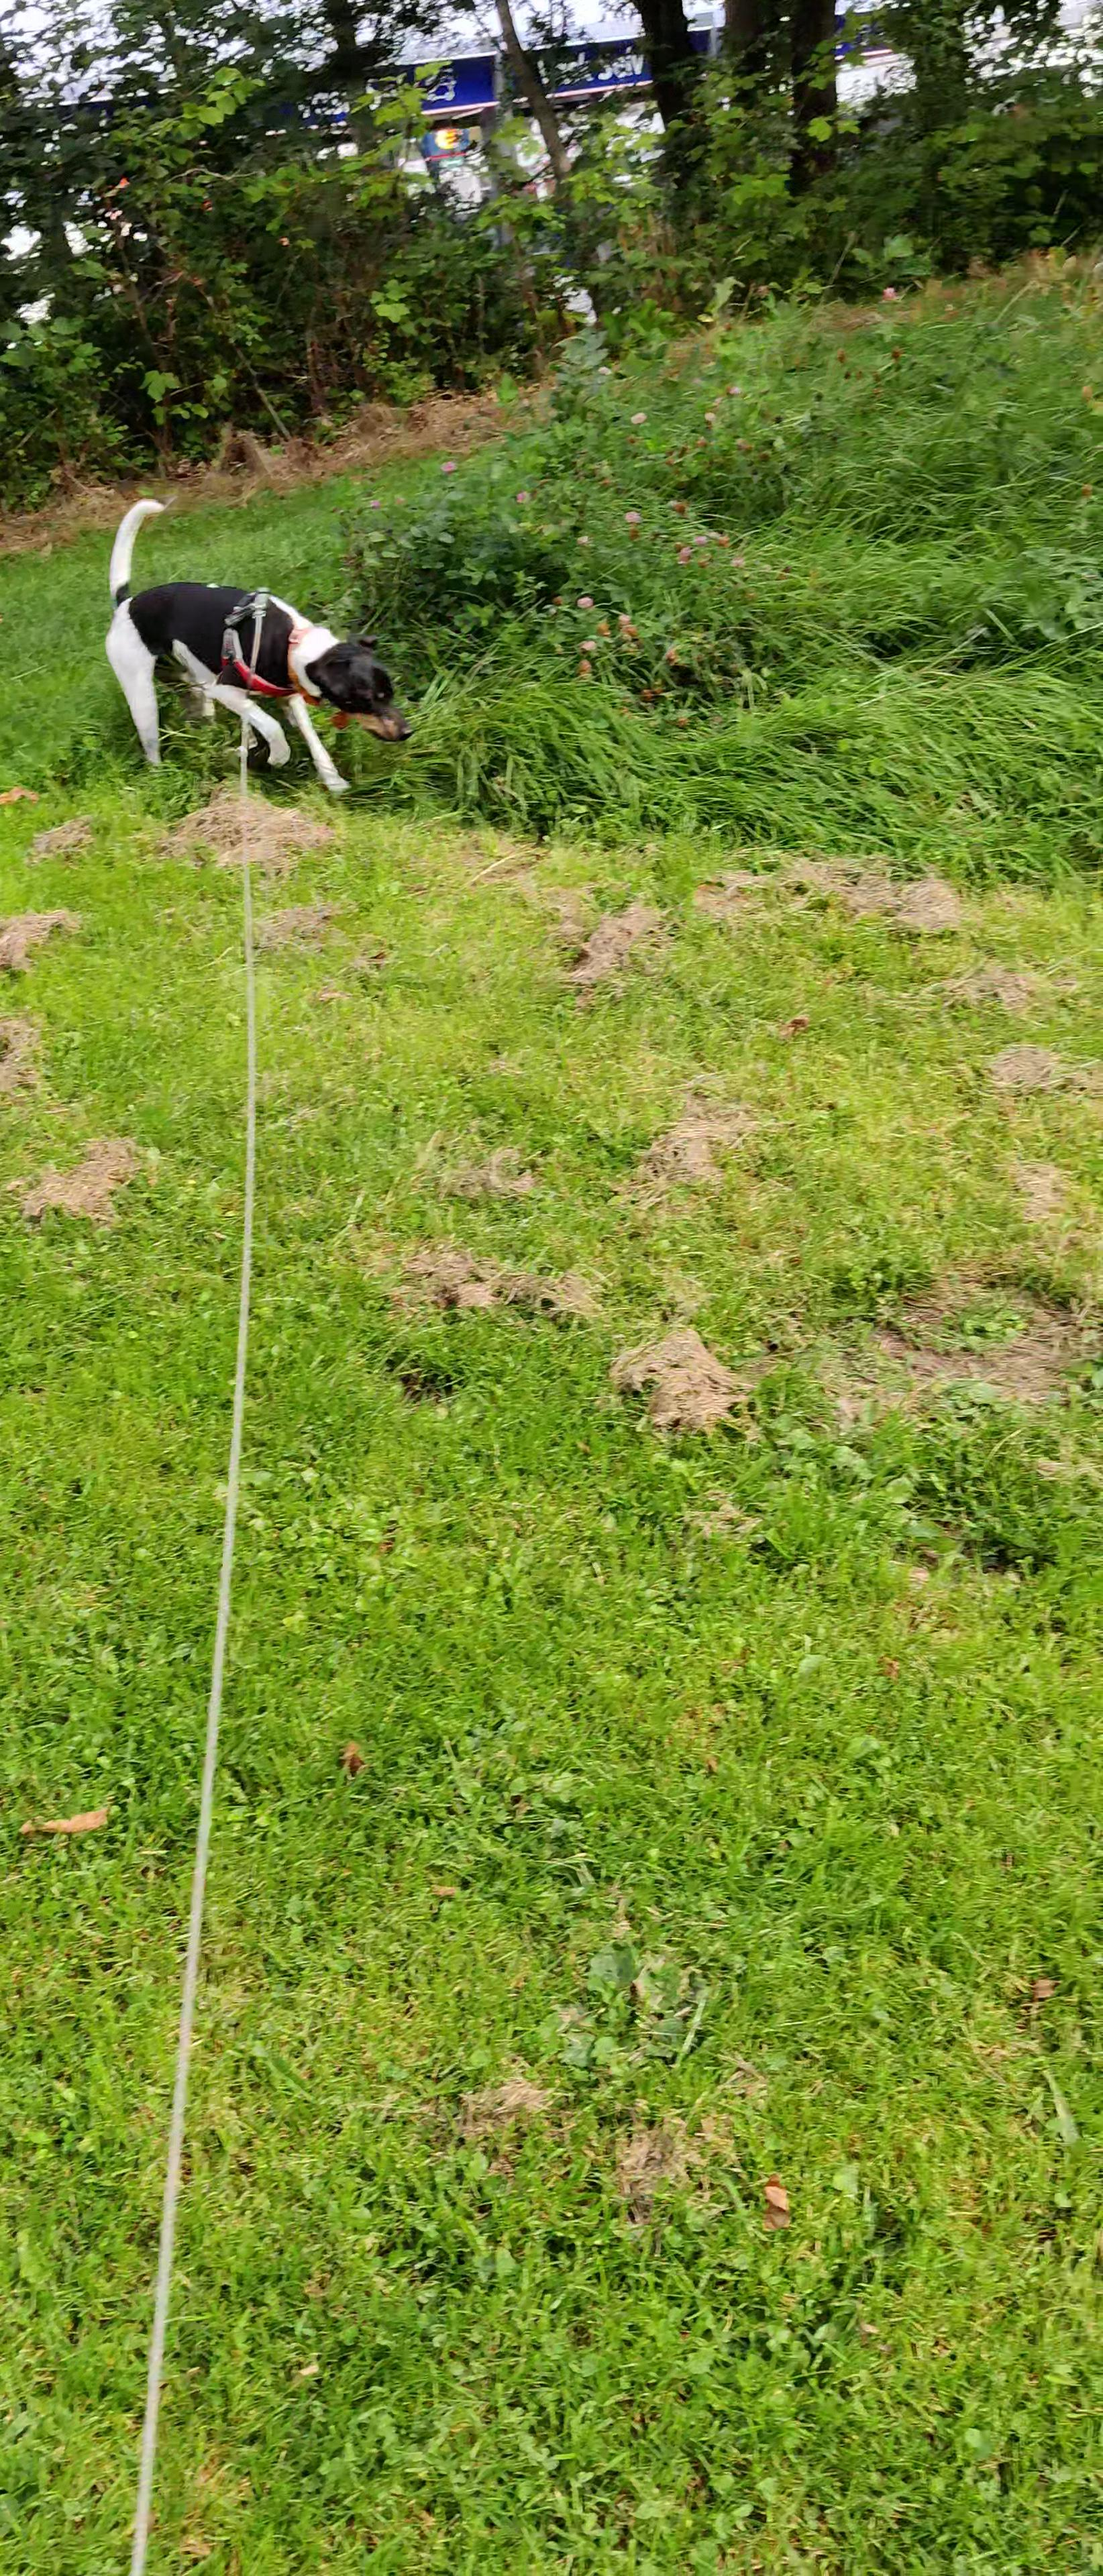Dog: (90, 490, 418, 800)
